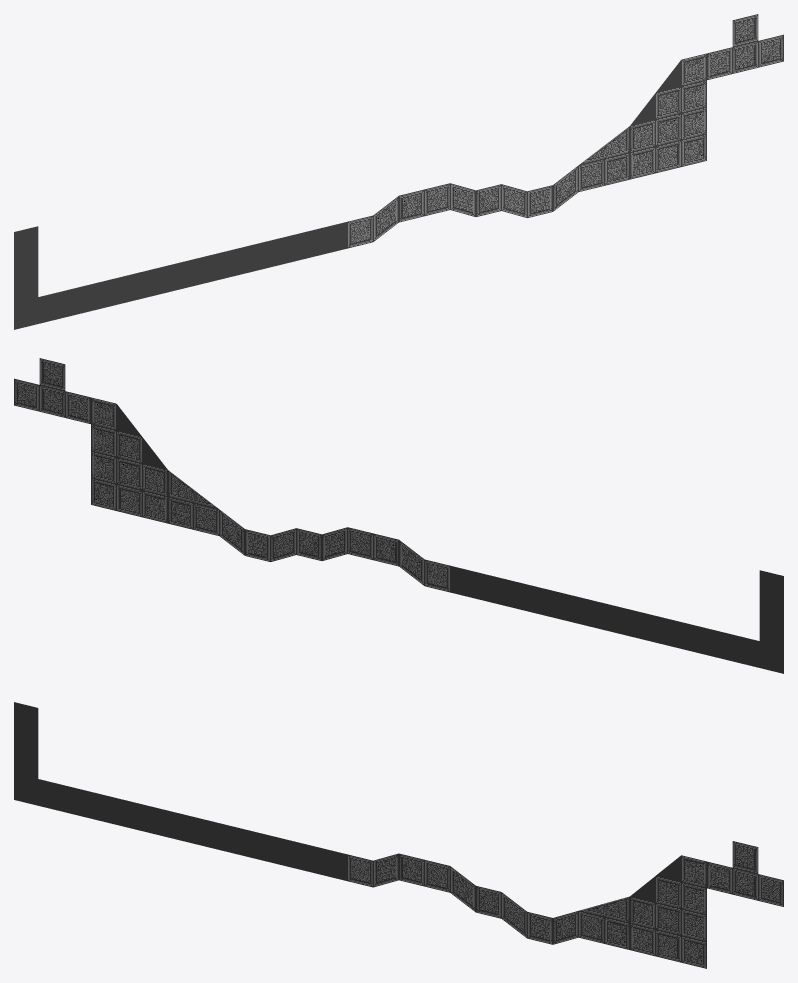
File: map1.obj
3 views of the same model, one above another, from view 1: azimuth 30°, elevation 25°; view 2: azimuth 150°, elevation 25°; view 3: azimuth 330°, elevation 25° (orthographic).
Parts seen in each view (by area): view 1: Cube; view 2: Cube; view 3: Cube.
Boxes of the visible parts, x1,y1,x2,y2 form: Cube: [14, 14, 783, 329]; Cube: [14, 358, 783, 673]; Cube: [14, 702, 783, 968].
Bounding box in the file's own units: 59.99 × 11 × 0.
1 material, 1 textured.
